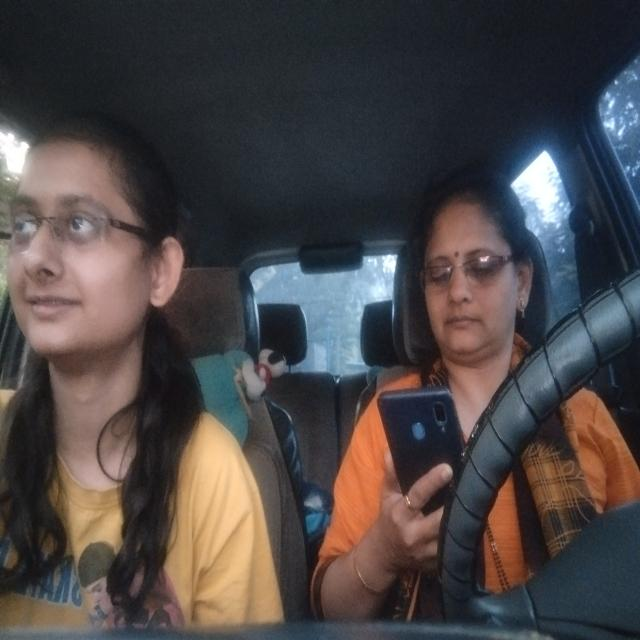mobile: (378, 392, 468, 502)
person: (17, 134, 179, 350), (420, 179, 531, 354)
